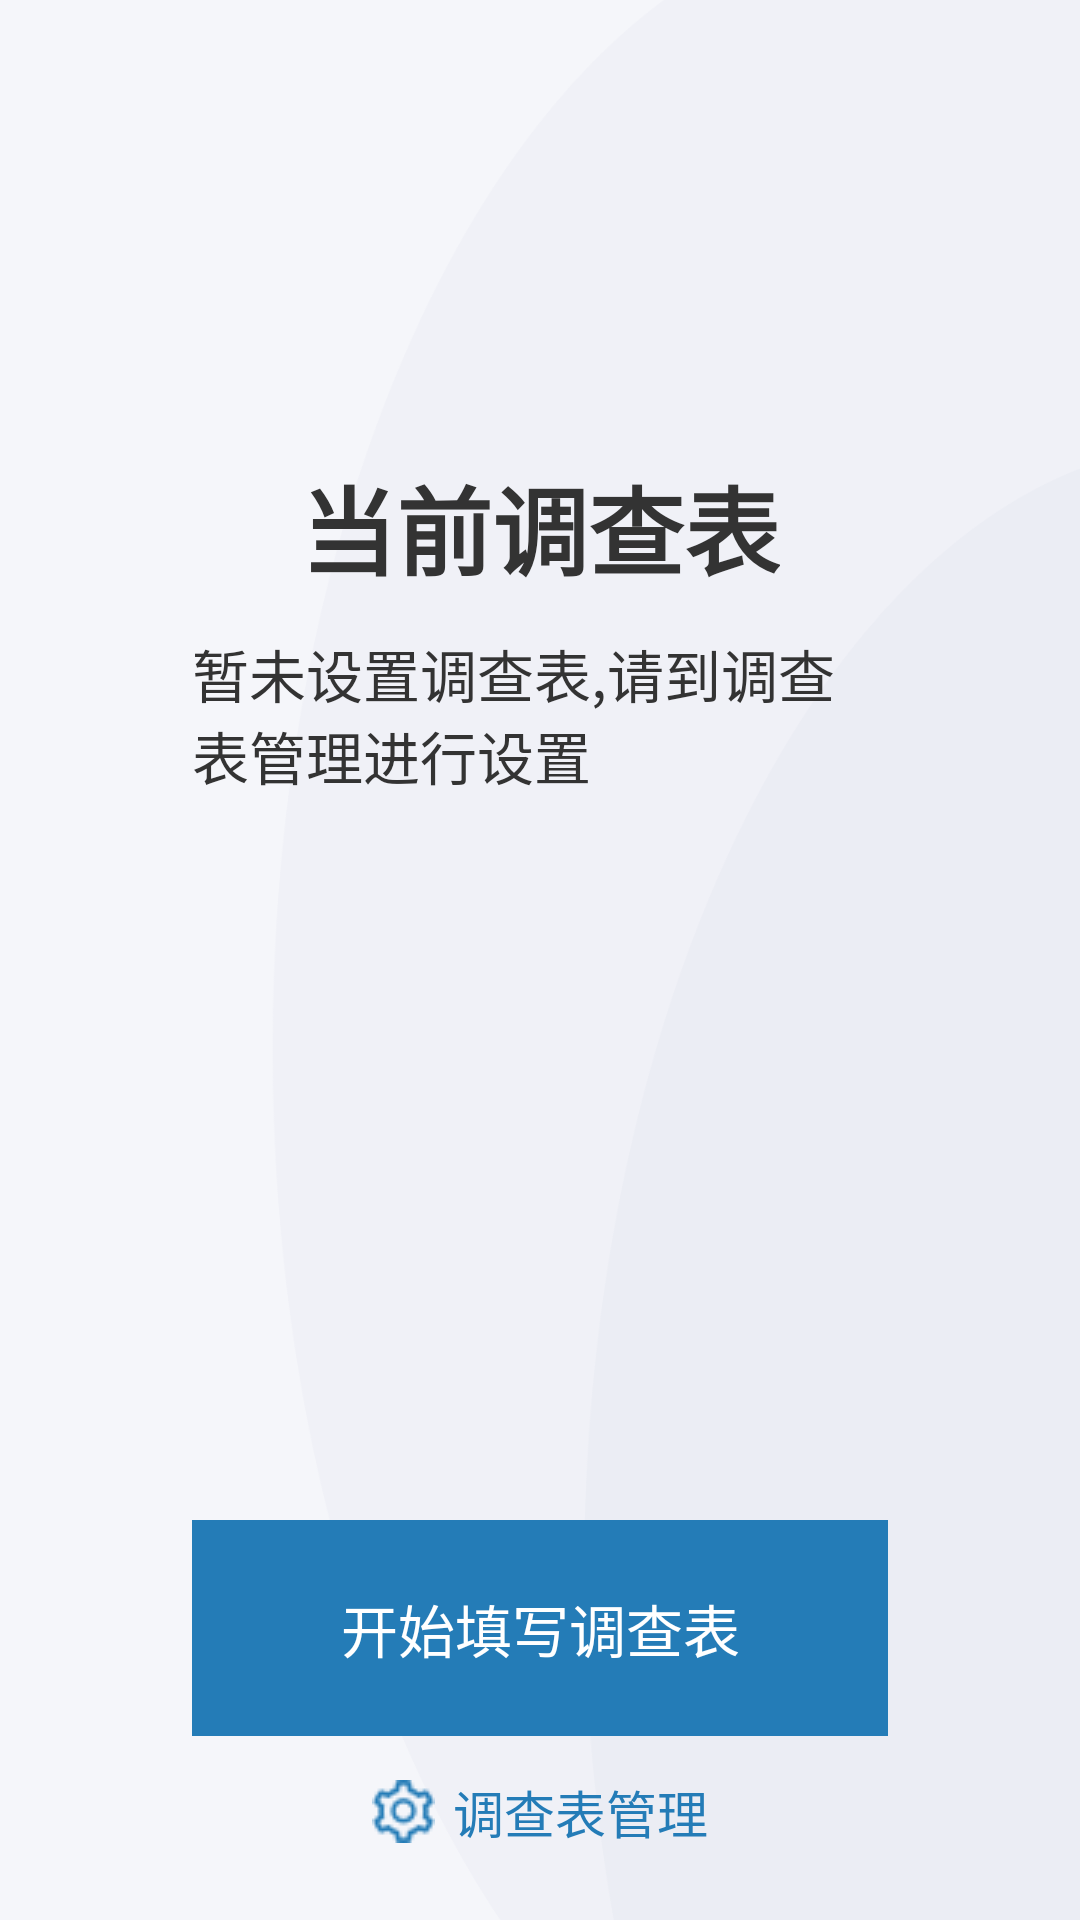

Where to tap for icons on this 1080*1920 app screen, as [x,y]:
setting: [403,1811]
